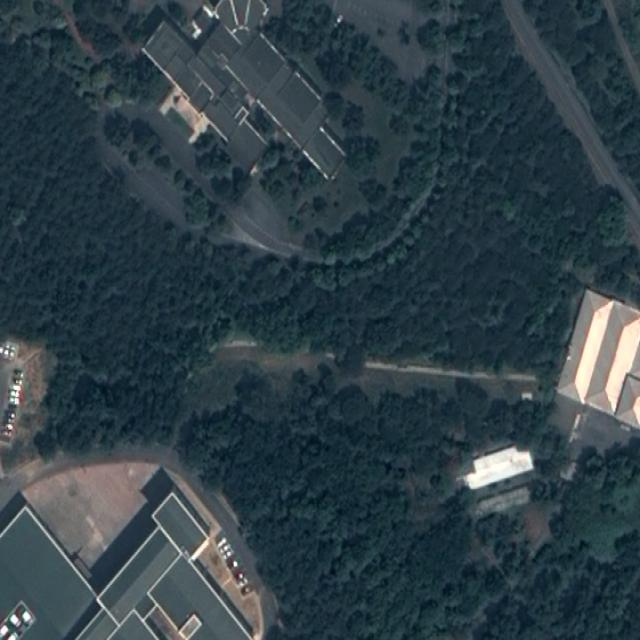Batiment: (144, 0, 345, 178), (0, 492, 95, 640), (149, 557, 248, 640), (100, 530, 178, 621), (585, 301, 640, 413), (558, 290, 610, 400), (154, 494, 206, 555), (615, 373, 640, 428), (109, 611, 155, 639)
